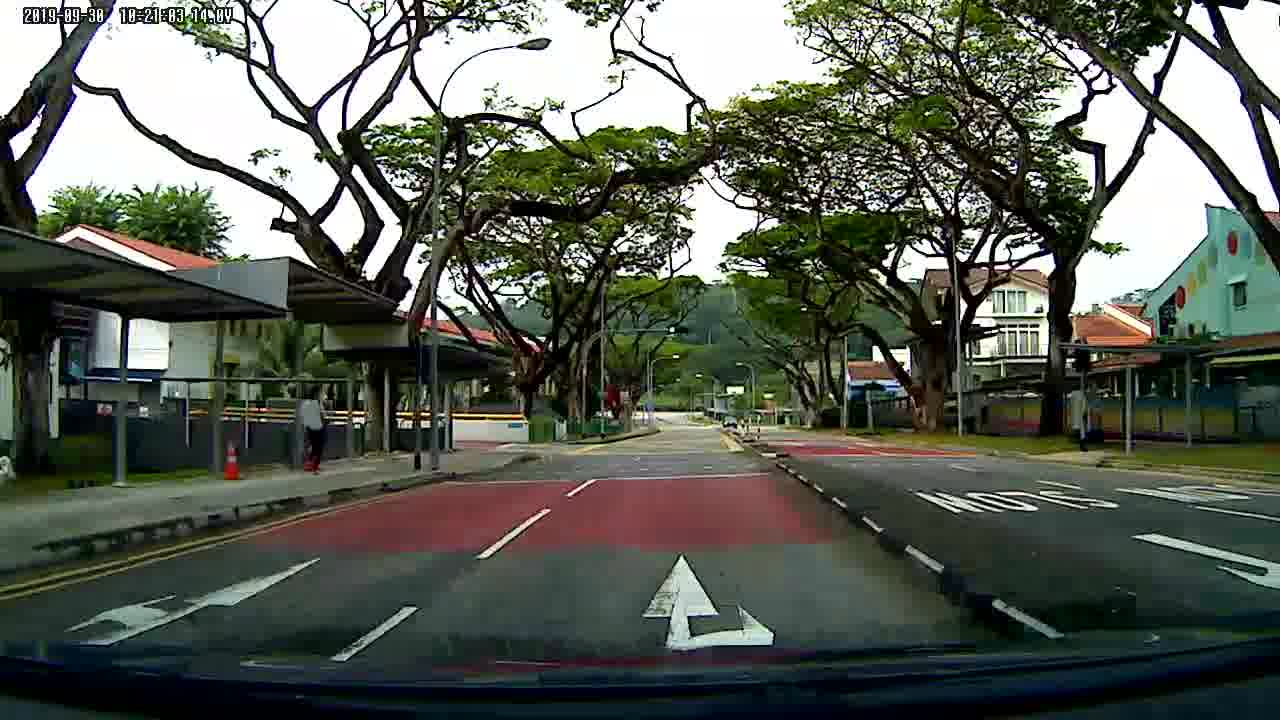car: (721, 414, 740, 429)
